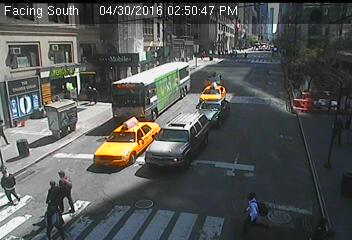neg: (300, 103, 323, 134), (54, 107, 74, 133), (28, 2, 45, 26), (135, 191, 152, 213), (203, 213, 219, 235), (153, 130, 169, 151), (319, 166, 334, 187), (22, 122, 36, 141), (285, 5, 299, 23), (233, 4, 246, 21), (261, 32, 273, 47), (275, 129, 286, 144), (199, 51, 210, 65), (284, 51, 294, 63), (221, 42, 230, 54), (186, 50, 190, 56)
pos: (237, 192, 269, 235), (48, 171, 79, 212), (39, 180, 65, 214), (41, 203, 66, 237), (328, 115, 351, 146), (89, 87, 102, 105), (83, 86, 96, 103), (243, 51, 250, 61)
